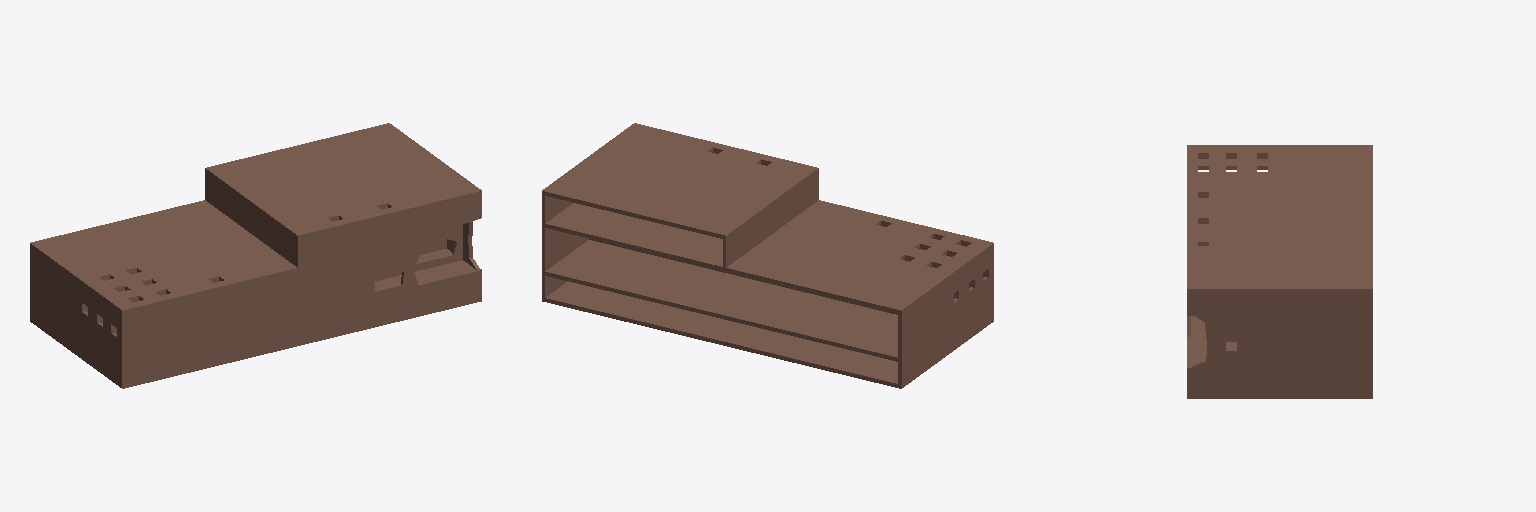
File: First_Level_0000_col_0000.obj
The picture shows the model from 3 angles: view 1: azimuth 30°, elevation 25°; view 2: azimuth 150°, elevation 25°; view 3: azimuth 270°, elevation 25°; orthographic projection.
Parts seen in each view (by area): view 1: Cube.004_Cube.001; view 2: Cube.004_Cube.001; view 3: Cube.004_Cube.001.
Part boxes in pixels (bbox=[...]): Cube.004_Cube.001: bbox=[30, 123, 481, 388]; Cube.004_Cube.001: bbox=[542, 123, 993, 388]; Cube.004_Cube.001: bbox=[1187, 145, 1372, 398].
Size of the model in its own units: 456 by 134 by 204.